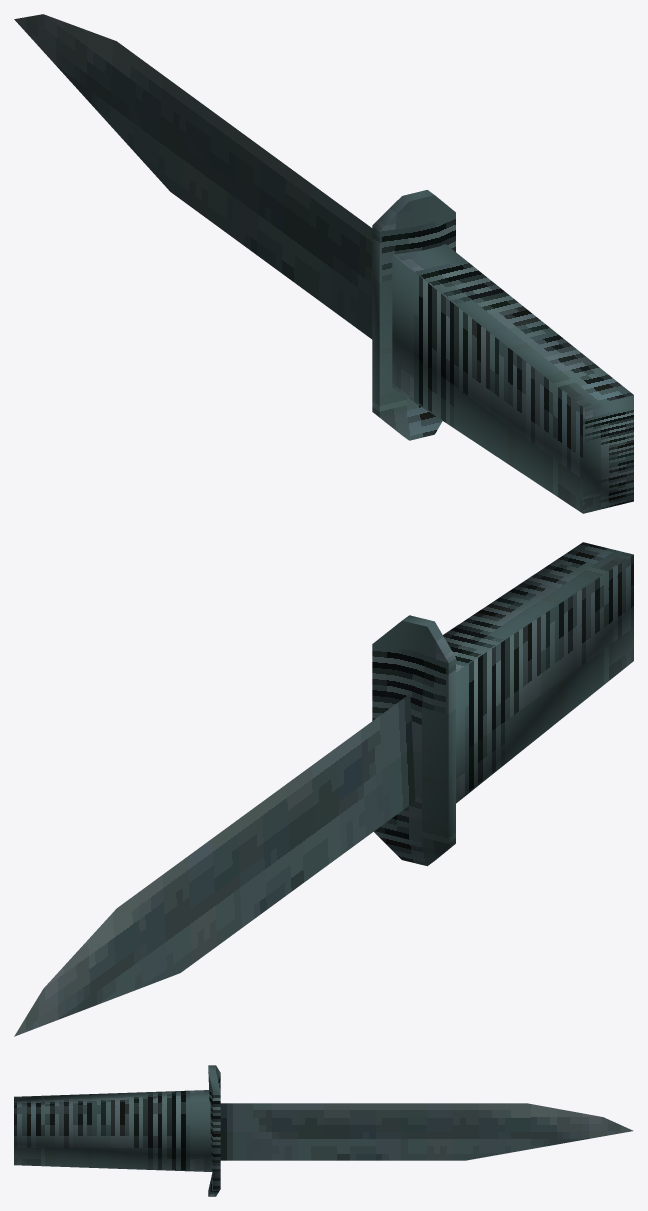
Rendered from Knife01_Combat.glb.
3 renders of one model, top to bottom at view 1: azimuth 30°, elevation 25°; view 2: azimuth 150°, elevation 25°; view 3: azimuth 270°, elevation 25°, orthographic. The views are drawn at different scales.
Visible parts, largest first — view 1: KNIFE01_COMBAT; view 2: KNIFE01_COMBAT; view 3: KNIFE01_COMBAT.
Part boxes in pixels (x1,y1,x2,y2): KNIFE01_COMBAT: (14,14,633,513); KNIFE01_COMBAT: (14,542,633,1036); KNIFE01_COMBAT: (14,1065,633,1196).
Bounding box in the file's own units: 0.03 × 0.09 × 0.405.
1 material, 1 textured.
